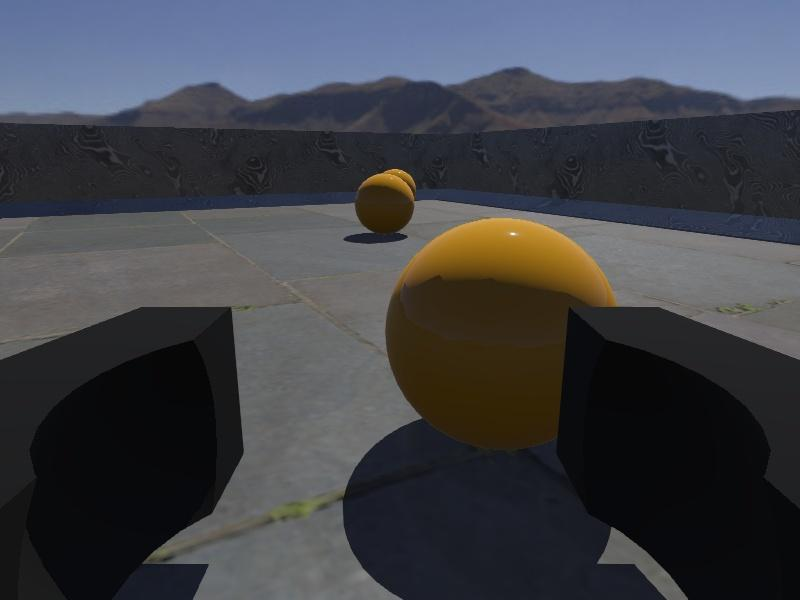orange ball: (355, 172, 415, 236)
